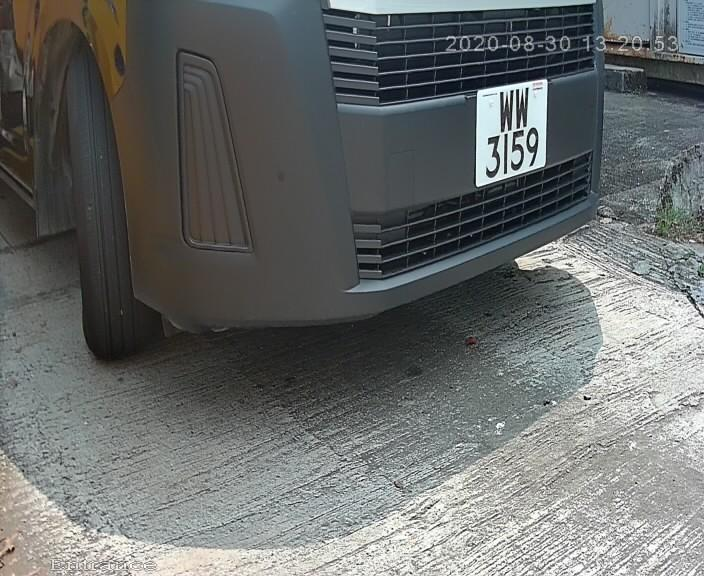License Plate: (466, 67, 557, 199)
